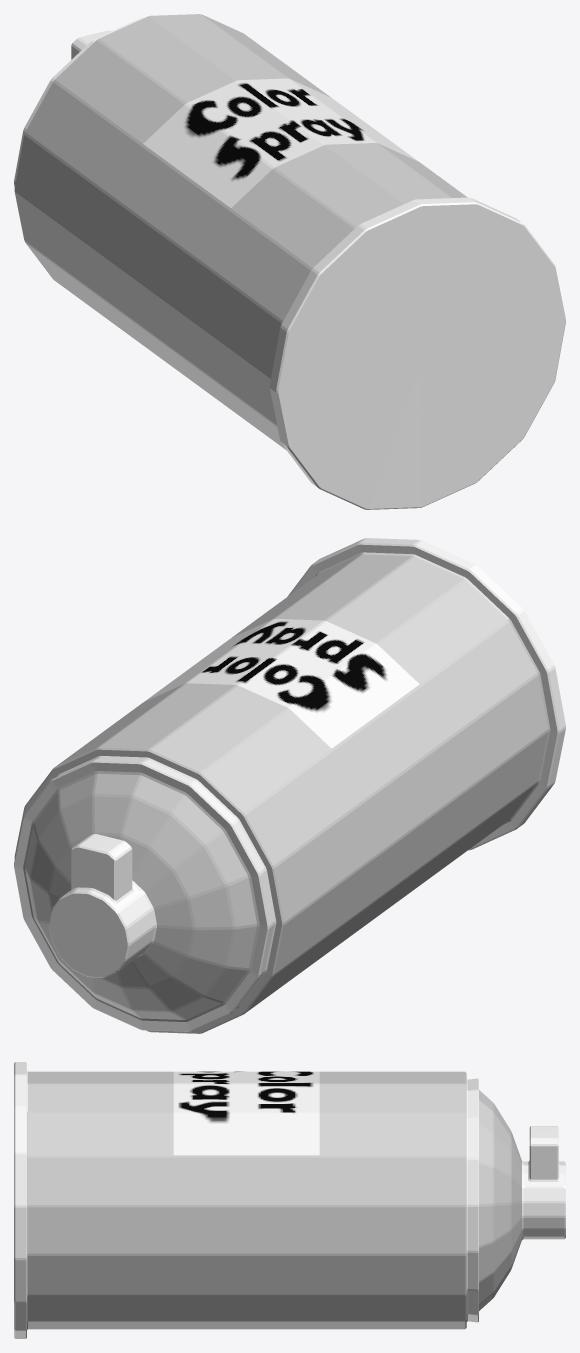
The model's file is SprayPainter3.fbx.
The picture shows the model from 3 angles, top to bottom: view 1: azimuth 30°, elevation 25°; view 2: azimuth 150°, elevation 25°; view 3: azimuth 270°, elevation 25°; orthographic projection. The views are drawn at different scales.
Visible parts, largest first — view 1: Cylinder; view 2: Cylinder; view 3: Cylinder.
Part boxes in pixels (left/top/right/bottom): Cylinder: left=14, top=14, right=565, bottom=509; Cylinder: left=14, top=538, right=565, bottom=1033; Cylinder: left=14, top=1062, right=565, bottom=1338.
Bounding box in the file's own units: 215 × 215 × 428.
